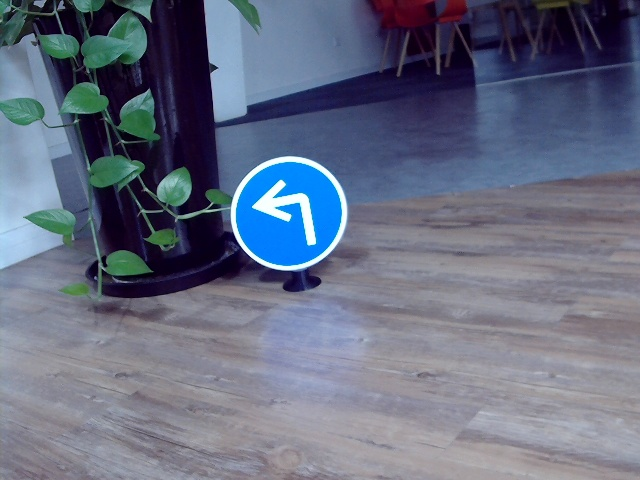turn_left: (251, 179, 317, 247)
